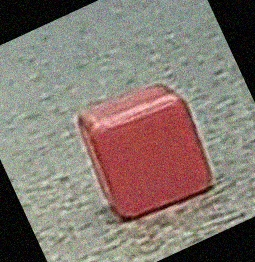orange_cube: (69, 74, 225, 222)
